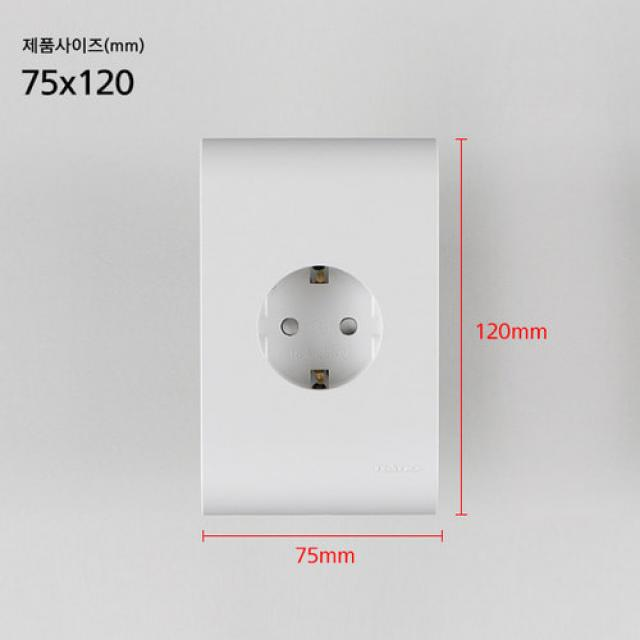typeb: (130, 122, 457, 586)
